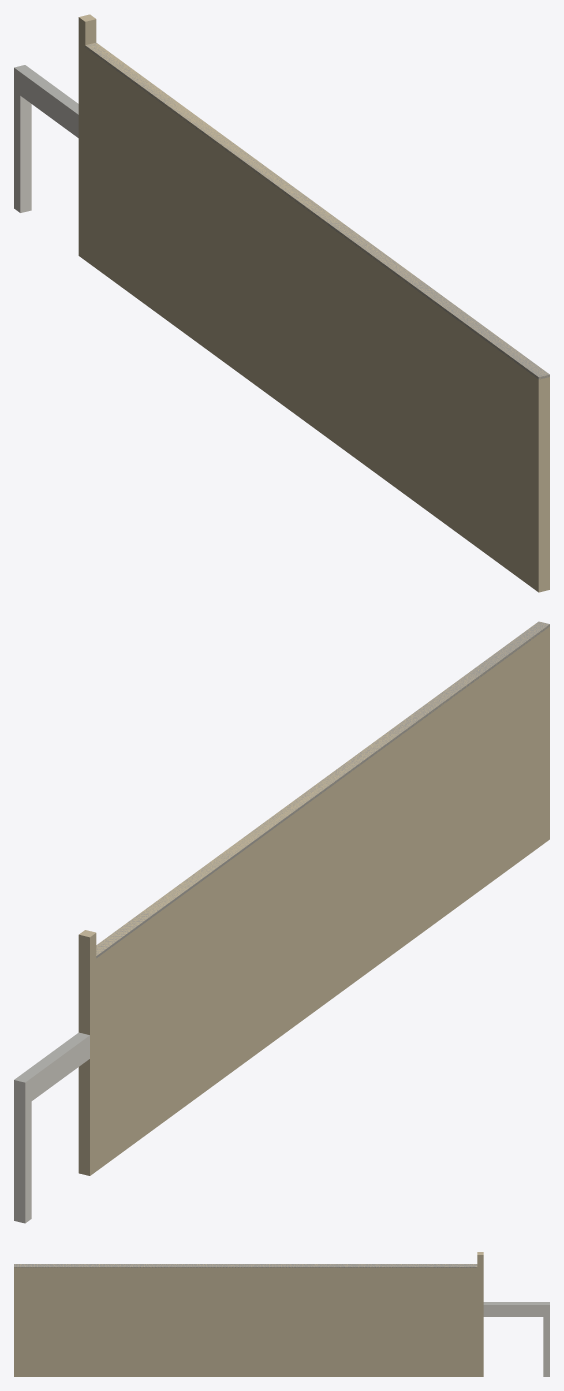
Rendered from strip_mall_end_right.glb.
The picture shows the model from 3 angles, top to bottom: view 1: azimuth 30°, elevation 25°; view 2: azimuth 150°, elevation 25°; view 3: azimuth 270°, elevation 25°; orthographic projection. The views are drawn at different scales.
Parts seen in each view (by area): view 1: strip_mall_end_right-col; view 2: strip_mall_end_right-col; view 3: strip_mall_end_right-col.
Boxes of the visible parts, x1,y1,x2,y2 form: strip_mall_end_right-col: (14, 14, 549, 592); strip_mall_end_right-col: (14, 621, 549, 1223); strip_mall_end_right-col: (14, 1252, 549, 1376).
Size of the model in its own units: 0.3 by 6.1 by 24.3.
